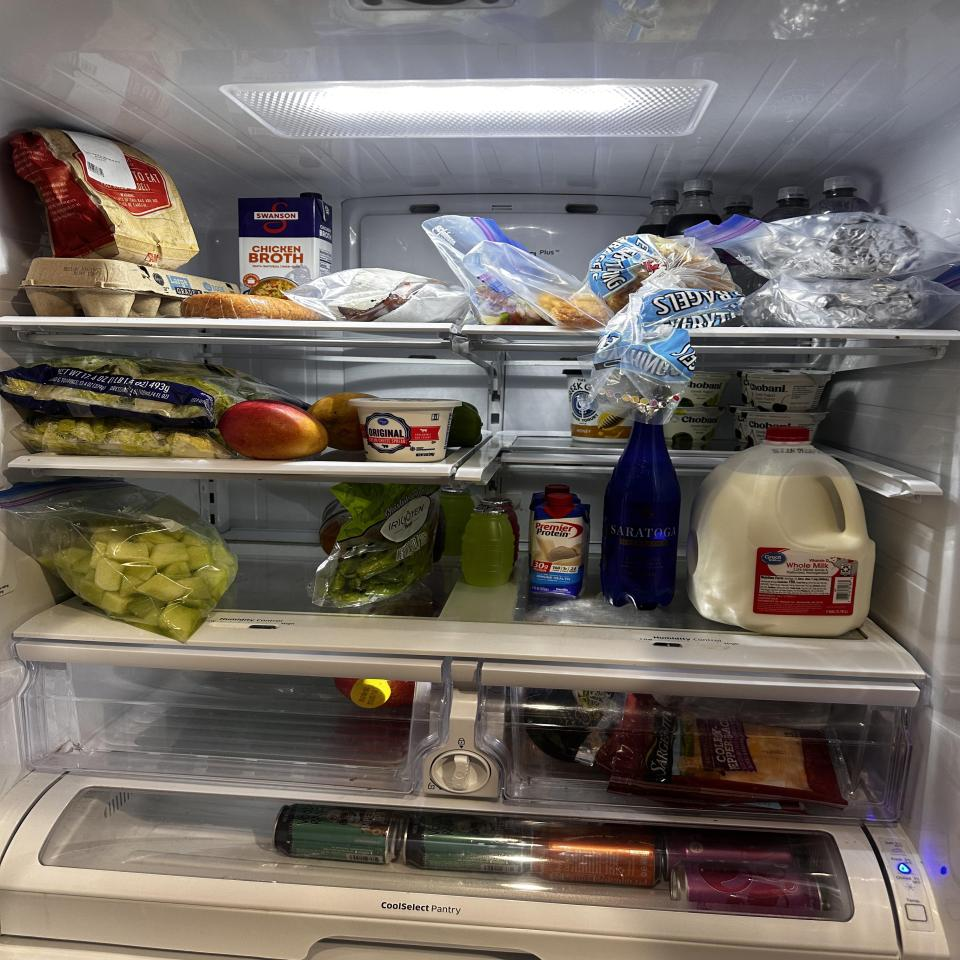Huevos: (9, 255, 239, 324)
Leche: (688, 425, 878, 640)
